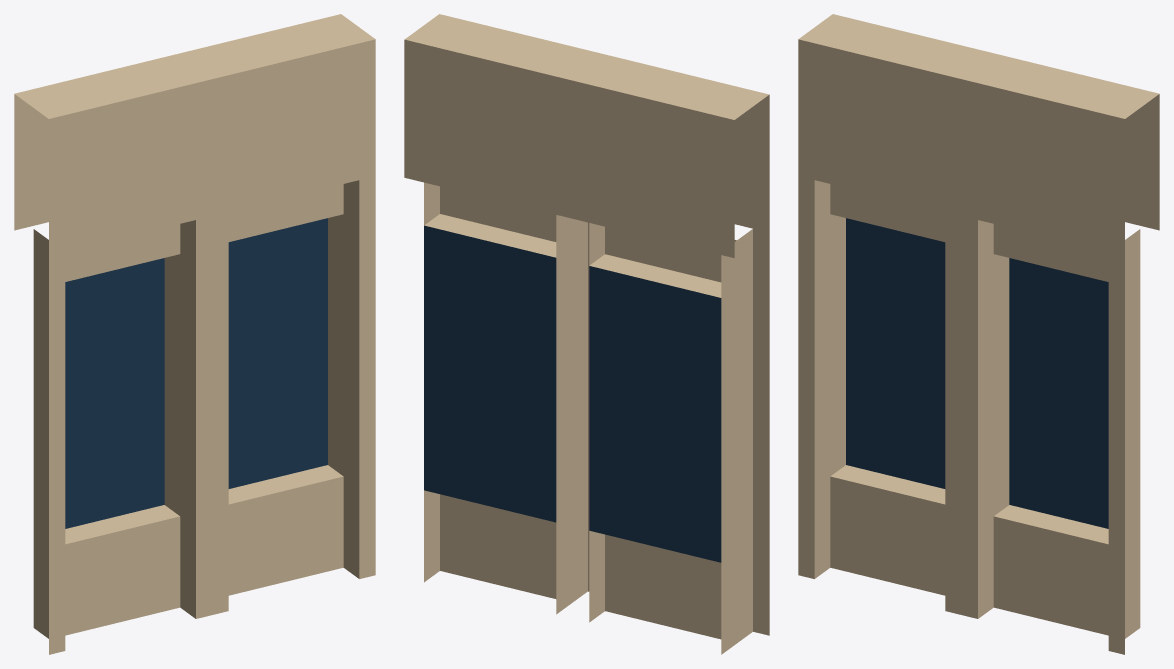
The model's file is top-w1.fbx.
The picture shows the model from 3 angles, left to right: view 1: azimuth 30°, elevation 25°; view 2: azimuth 150°, elevation 25°; view 3: azimuth 330°, elevation 25°; orthographic projection.
Parts seen in each view (by area): view 1: a2012/400/top-w1; view 2: a2012/400/top-w1; view 3: a2012/400/top-w1.
Boxes of the visible parts, <box> form: a2012/400/top-w1: <box>14,14,375,654</box>; a2012/400/top-w1: <box>404,14,769,654</box>; a2012/400/top-w1: <box>798,14,1159,654</box>.
Size of the model in its own units: 3 by 4.7 by 0.55.
